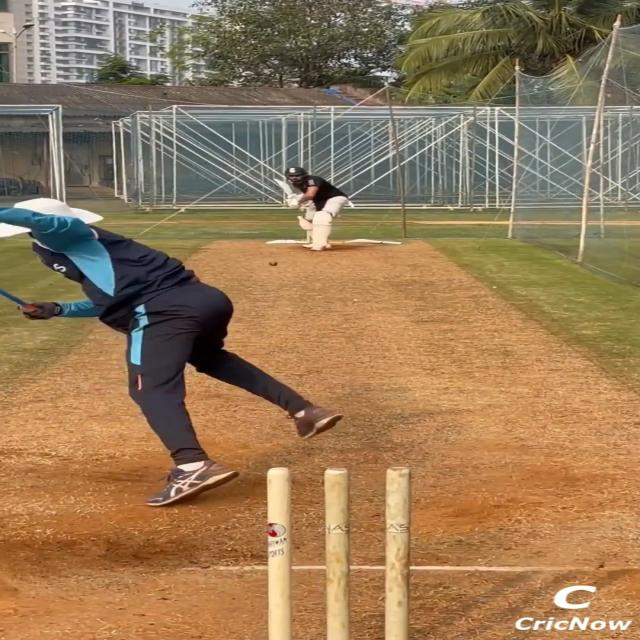ball: (268, 261, 278, 266)
stump: (256, 462, 413, 640)
